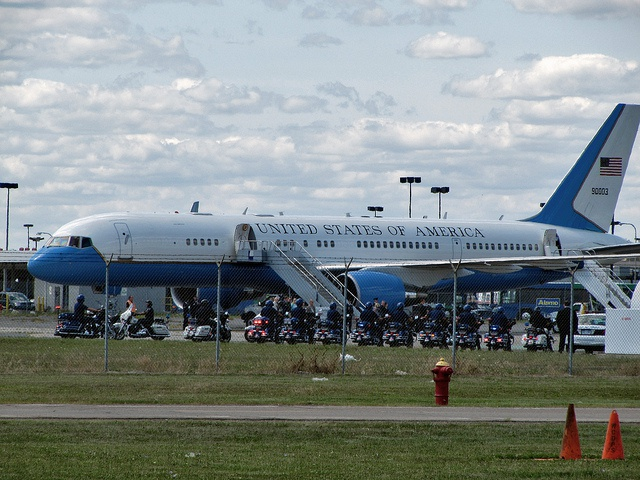non-vehicle: (109, 303, 170, 340), (54, 303, 114, 339), (184, 307, 232, 342), (520, 317, 557, 352), (454, 311, 482, 351), (416, 318, 451, 349), (483, 324, 514, 351), (315, 319, 343, 347), (382, 319, 411, 346), (250, 315, 277, 344), (279, 317, 301, 343), (354, 320, 370, 345)
